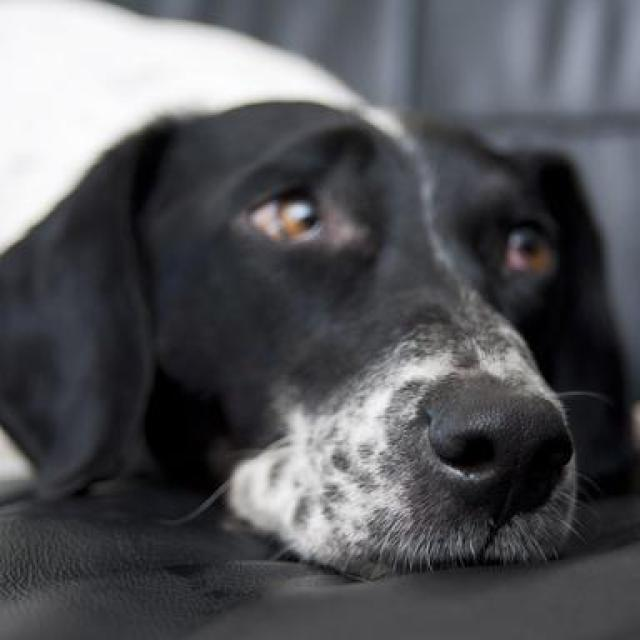sad: (9, 35, 640, 608)
